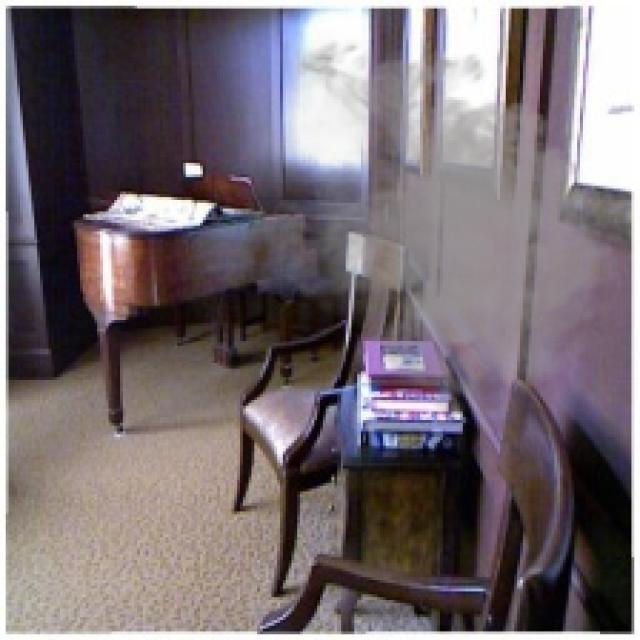smoke: (228, 28, 632, 423)
